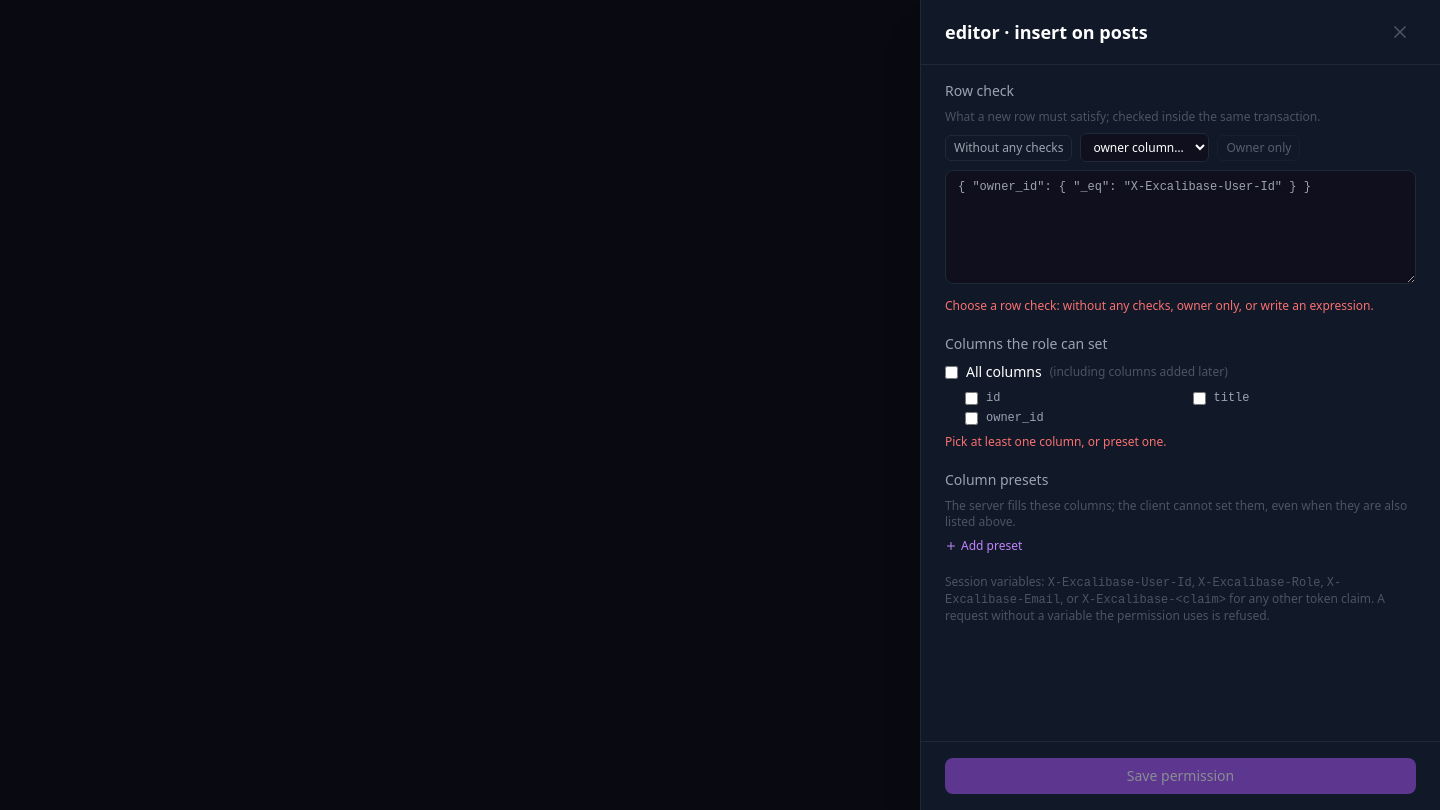
it: PermissionEditor › a preset with no column is refused
This screenshot has width=1440, height=810.
Step 1. Click the button "Without any checks" → (1009, 148), box [945,134,1072,160]
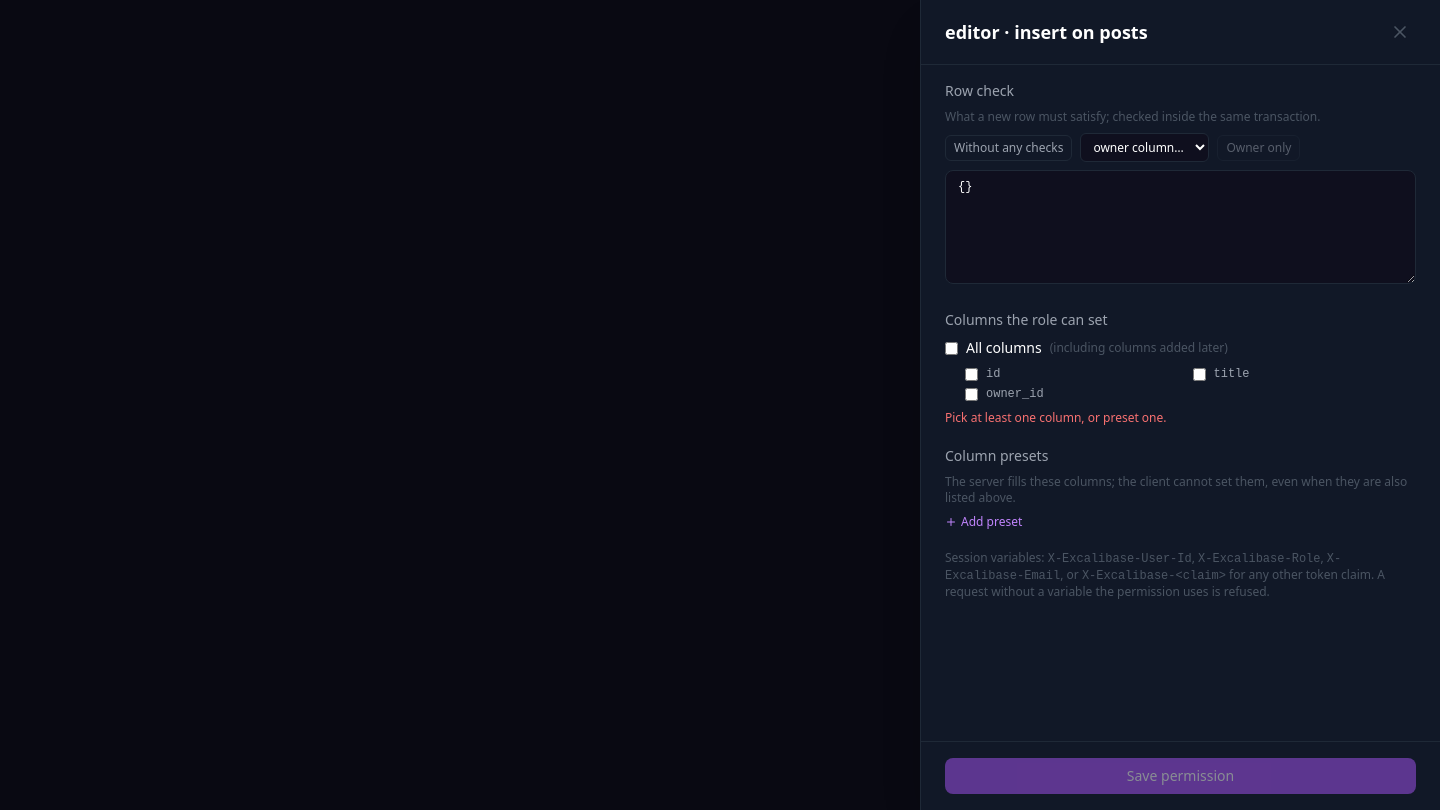
Step 2. Click the checkbox labelled "All columns" → (952, 348), box [945,342,958,354]
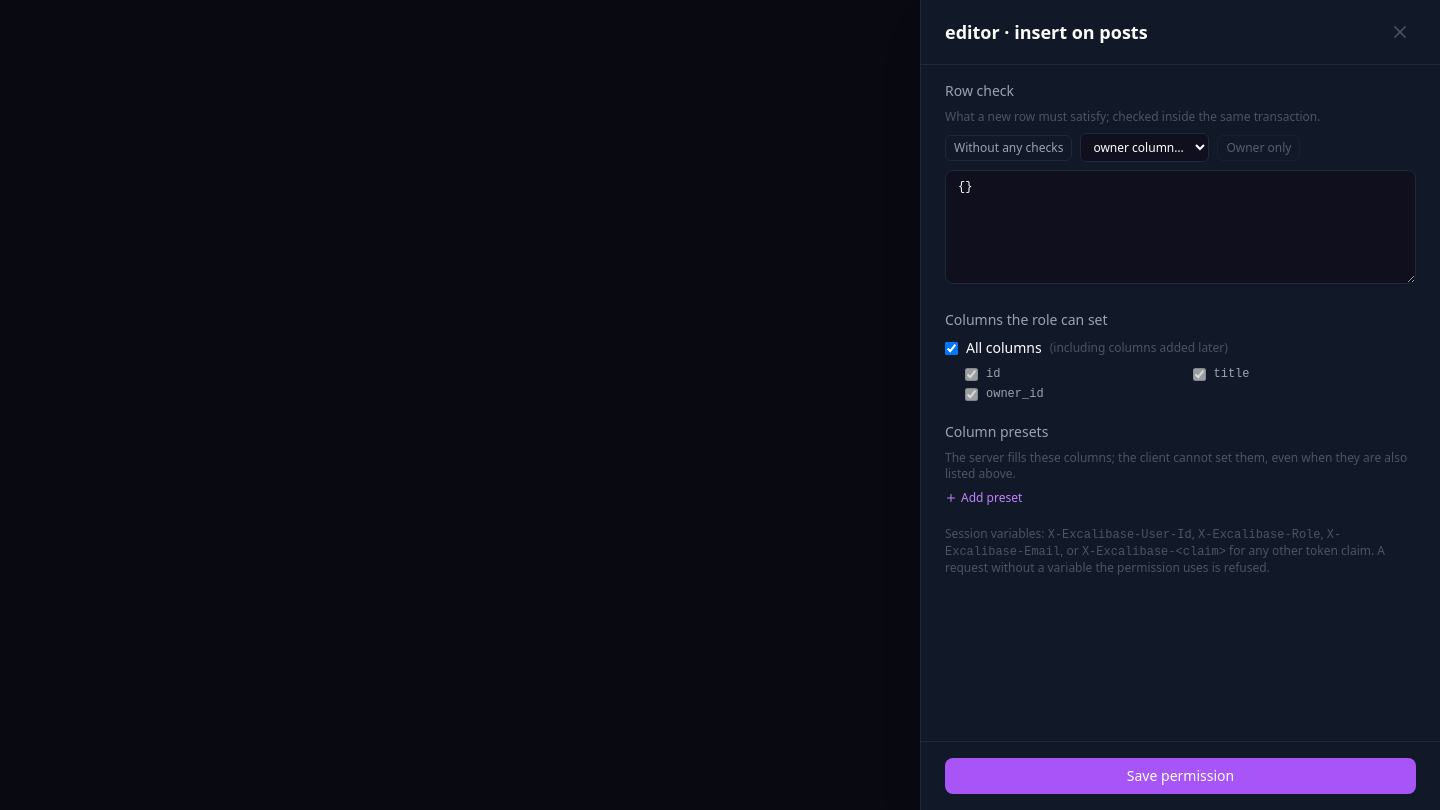
Step 3. Click the button "Add preset" → (984, 498), box [945,490,1022,506]
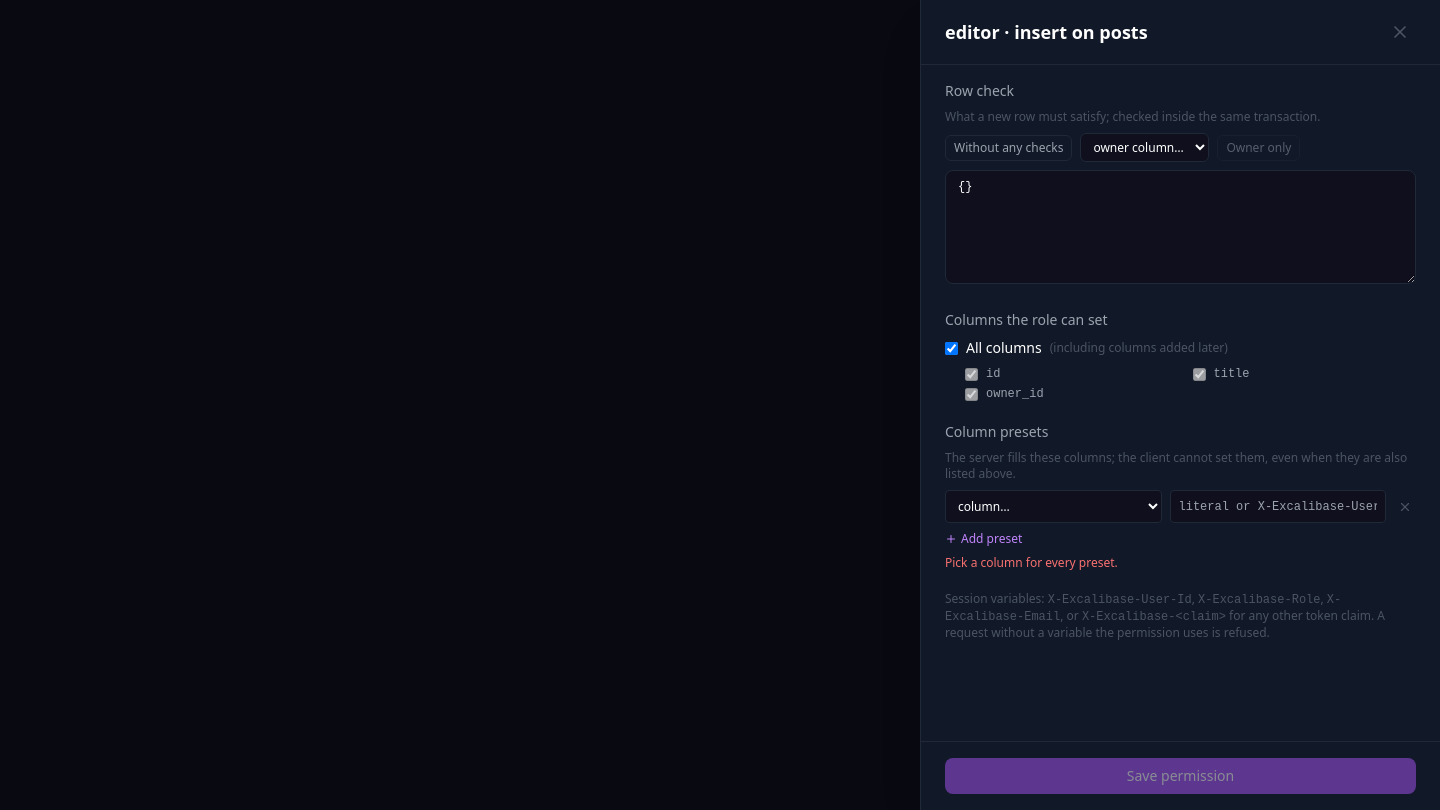
Now the text with test id "presets-error" reads "Pick a column for every preset.", box [945,554,1118,571]
Now the button "Save permission" is disabled, box [945,758,1416,794]
